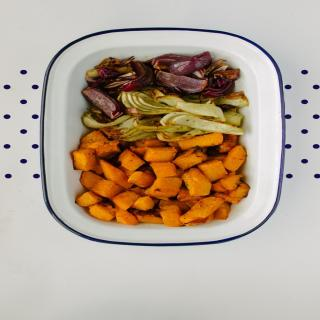Carrot: (160, 204, 186, 228)
